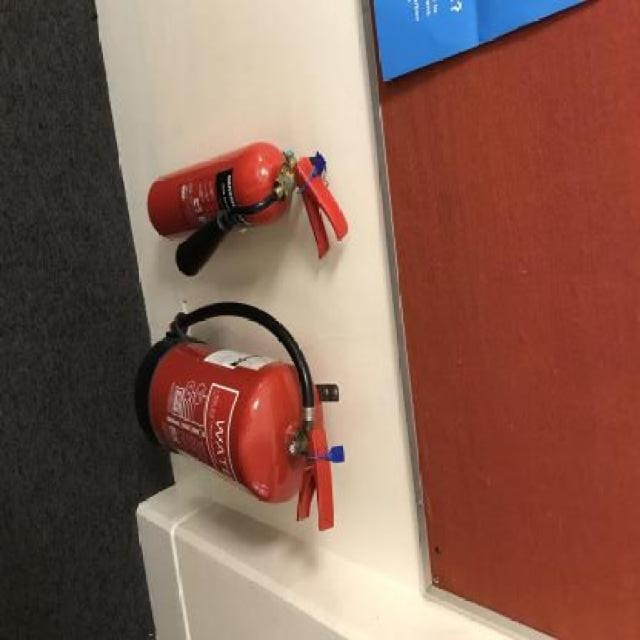fire extinguisher: (137, 300, 345, 532), (147, 140, 348, 280)
